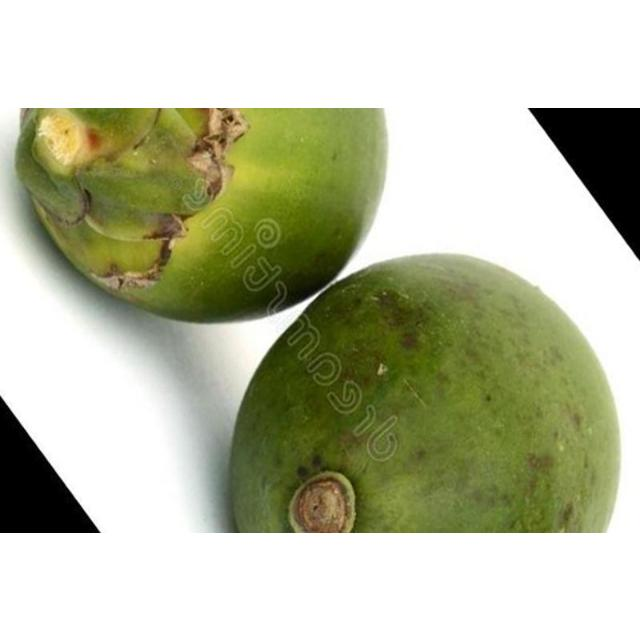good: (226, 253, 622, 532), (14, 107, 390, 323)
